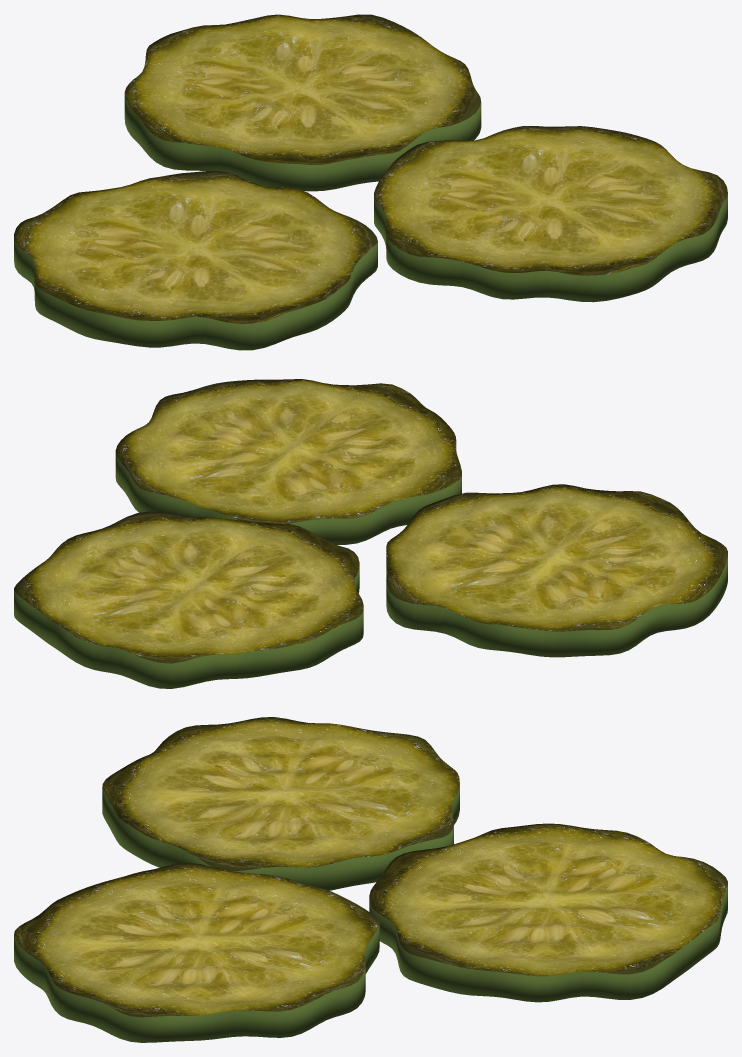
File: pickle.glb
The picture shows the model from 3 angles, top to bottom: view 1: azimuth 30°, elevation 25°; view 2: azimuth 150°, elevation 25°; view 3: azimuth 270°, elevation 25°; orthographic projection. The views are drawn at different scales.
Parts seen in each view (by area): view 1: Dill pickle coin 1, Dill pickle coin 2, Dill pickle coin 3; view 2: Dill pickle coin 3, Dill pickle coin 1, Dill pickle coin 2; view 3: Dill pickle coin 2, Dill pickle coin 3, Dill pickle coin 1.
Boxes of the visible parts, left/top/right/bottom form: Dill pickle coin 1: left=14, top=171, right=377, bottom=350; Dill pickle coin 2: left=374, top=126, right=727, bottom=302; Dill pickle coin 3: left=124, top=14, right=481, bottom=191; Dill pickle coin 3: left=14, top=511, right=363, bottom=688; Dill pickle coin 1: left=386, top=484, right=727, bottom=657; Dill pickle coin 2: left=115, top=379, right=461, bottom=544; Dill pickle coin 2: left=14, top=862, right=379, bottom=1042; Dill pickle coin 3: left=369, top=823, right=727, bottom=1002; Dill pickle coin 1: left=102, top=717, right=459, bottom=890.
Size of the model in its own units: 1.59 by 0.0991 by 1.58.
Materials: 2 (1 with a texture image).
